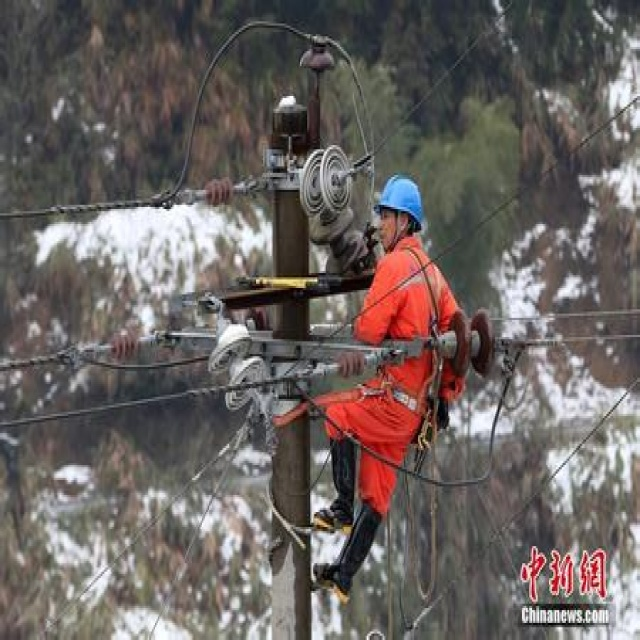Helmet: (365, 166, 436, 262)
Reflective vest: (356, 243, 454, 419)
